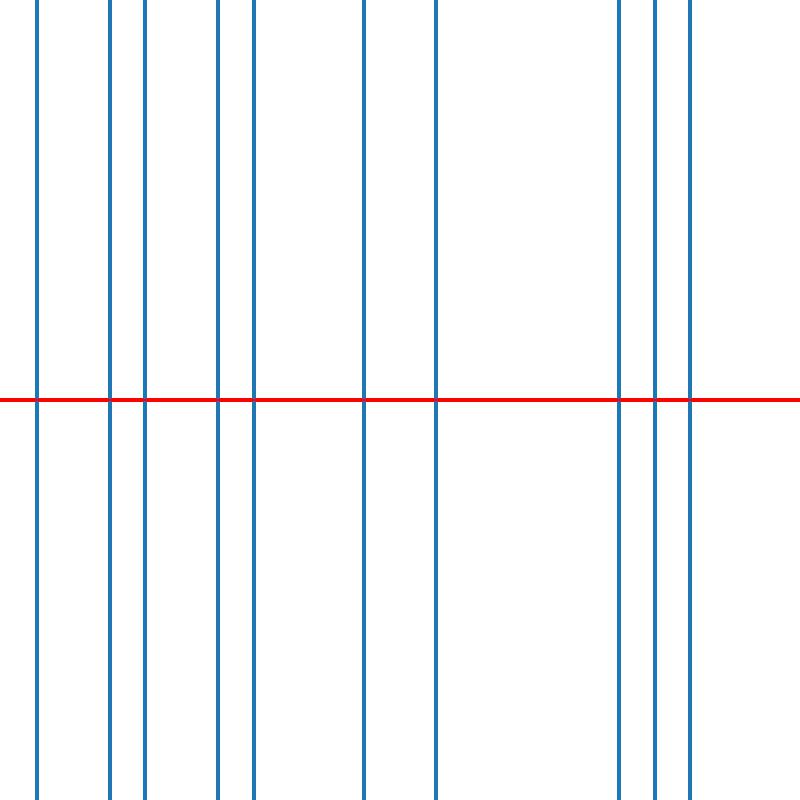root: (141, 396, 149, 404), (432, 396, 440, 404), (250, 396, 258, 404), (650, 396, 658, 404), (32, 396, 40, 404), (214, 396, 221, 404), (614, 396, 621, 404), (360, 396, 367, 404), (105, 396, 112, 404), (687, 396, 694, 404)
